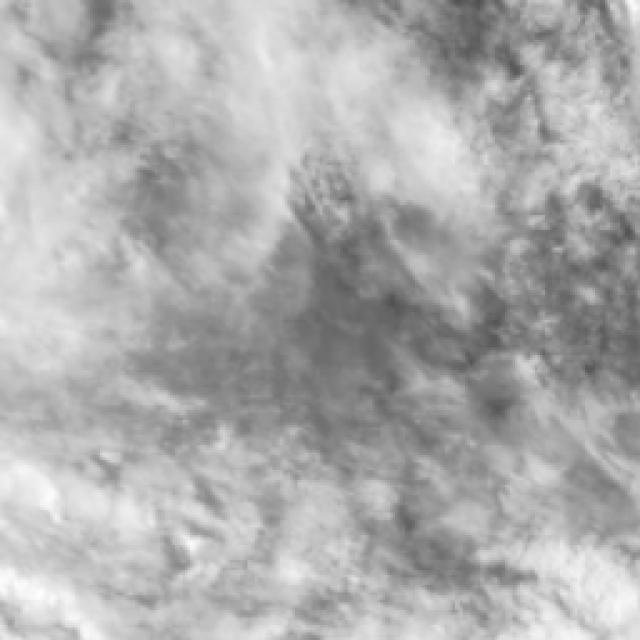CB: (168, 14, 422, 162)
